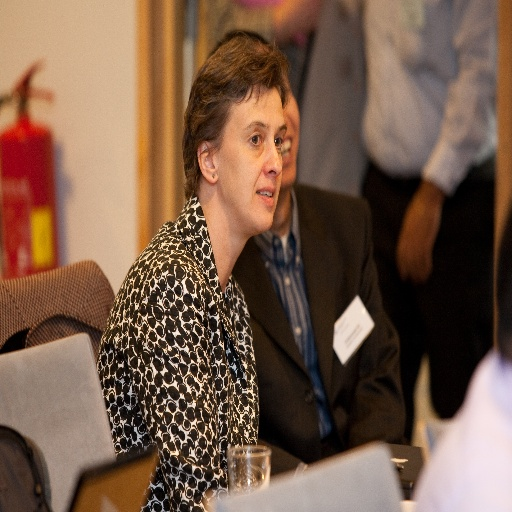hand: (397, 156, 462, 300), (276, 0, 325, 41)
